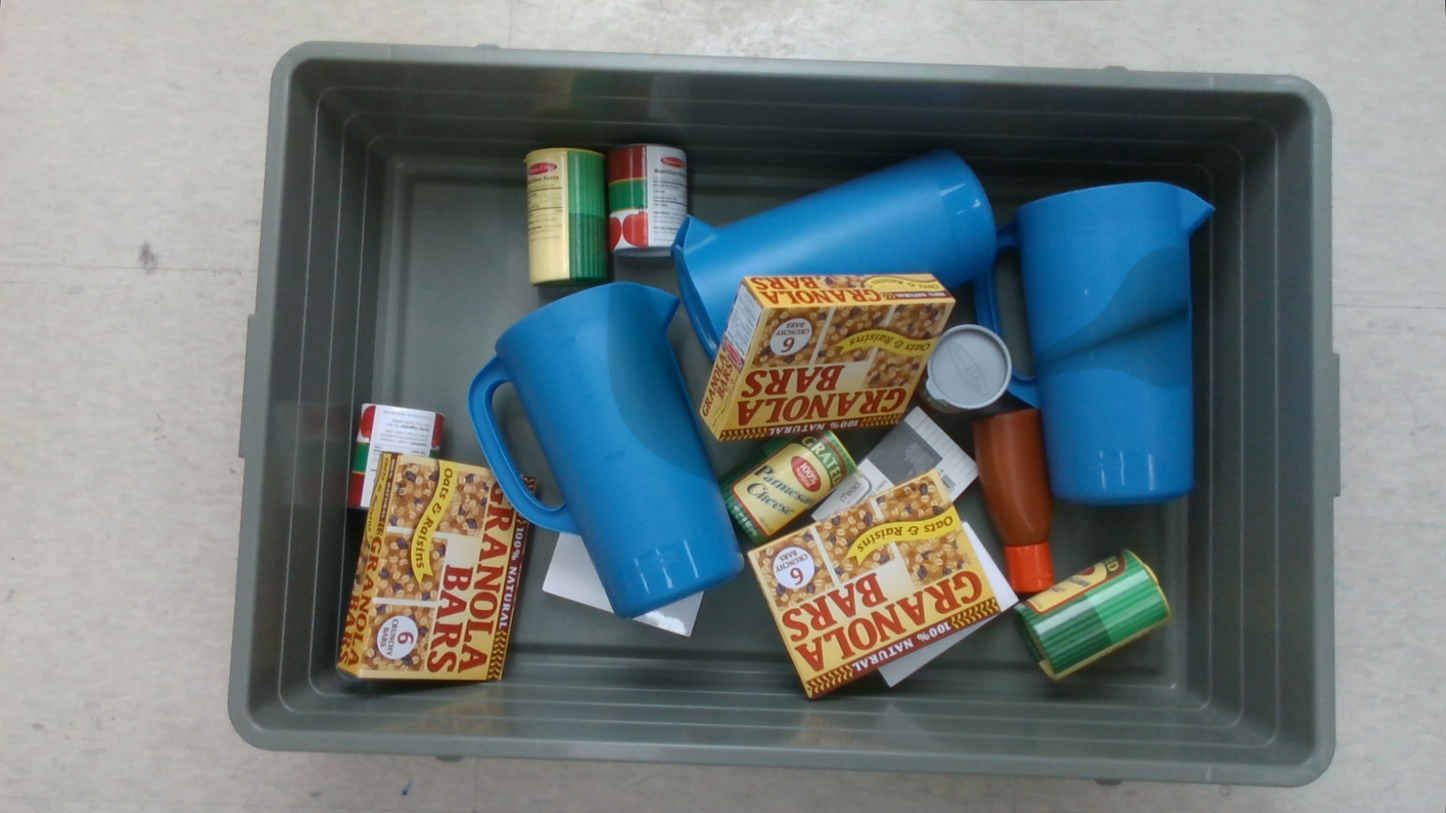defect: (1011, 247, 1191, 389), (607, 283, 717, 484)
